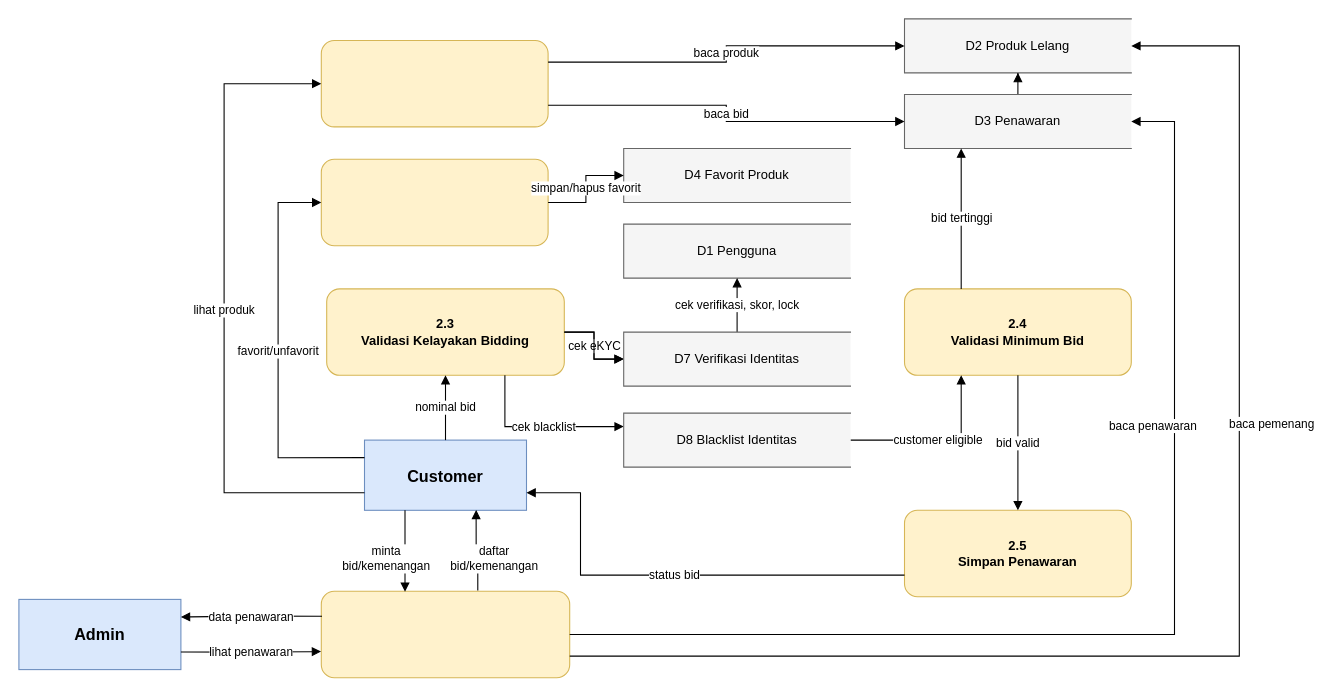
Image size: 1333x697. Some labels were removed from this diagram. The centre of each missing label's shape, as x and y in pixels:
"2.1 Ambil Detail Produk & Bid" belongs at [434,83].
"2.2 Tambah/Hapus Favorit" belongs at [434,202].
"2.6 Sajikan Bid & Kemenangan" belongs at [445,634].
